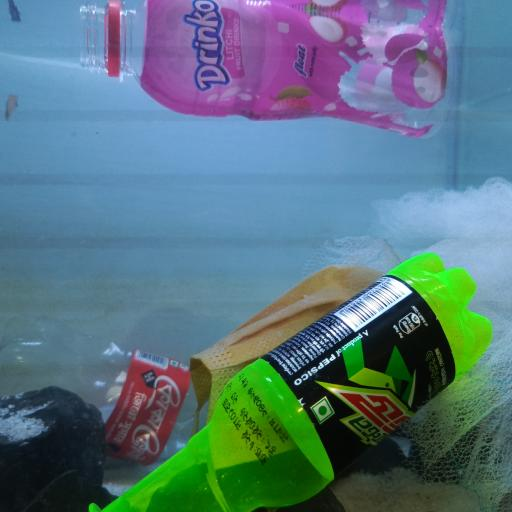mask: (186, 265, 454, 423)
net: (315, 174, 512, 512)
plastic_bottle: (99, 247, 492, 512), (80, 1, 456, 141), (0, 307, 215, 460)
